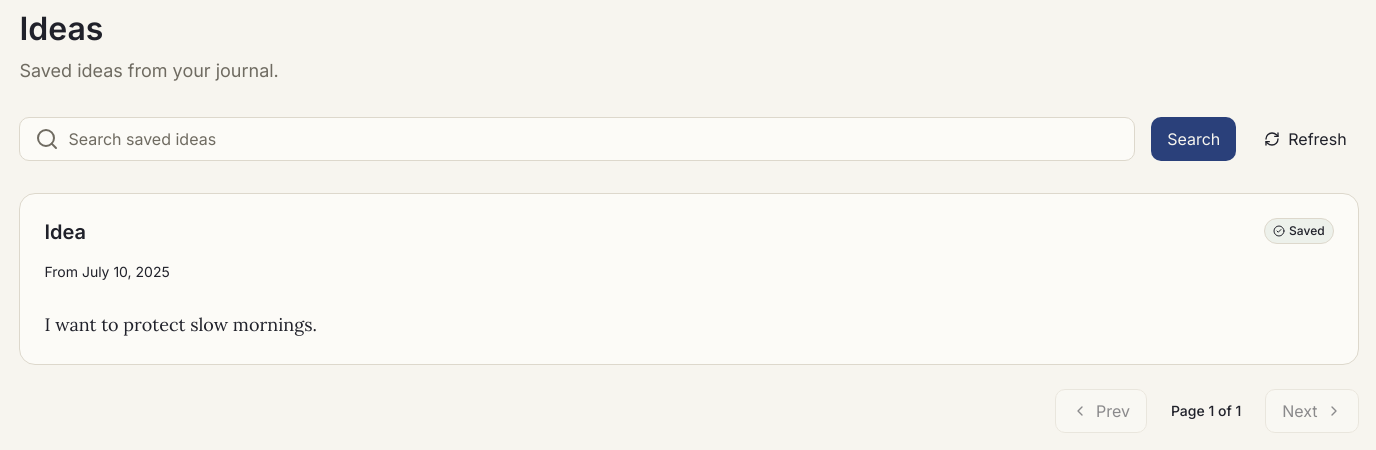
Scenario: SavedItemsScreen › renders saved items and distinguishes an empty search
Check: the text "I want to protect slow mornings." is shown, box x1=44 y1=313 x2=317 y2=336
Type "missing" into the search field named "Search ideas" at [577, 139], box x1=19 y1=117 x2=1135 y2=161
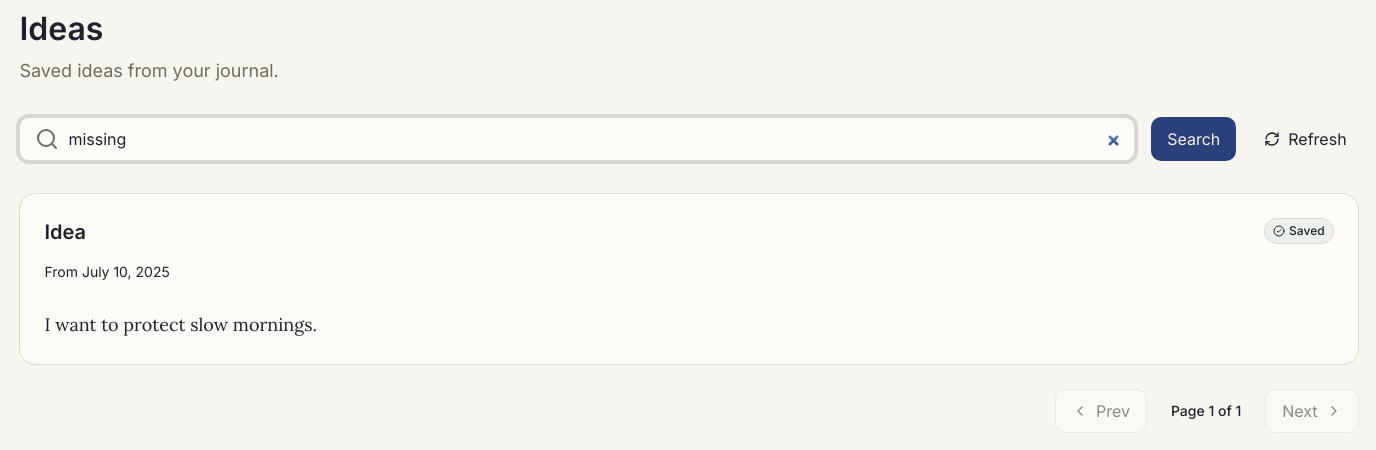
Check: the text "I want to protect slow mornings." is shown, box x1=44 y1=313 x2=317 y2=336
Click the button "Search" at [1194, 139], box x1=1151 y1=117 x2=1236 y2=161
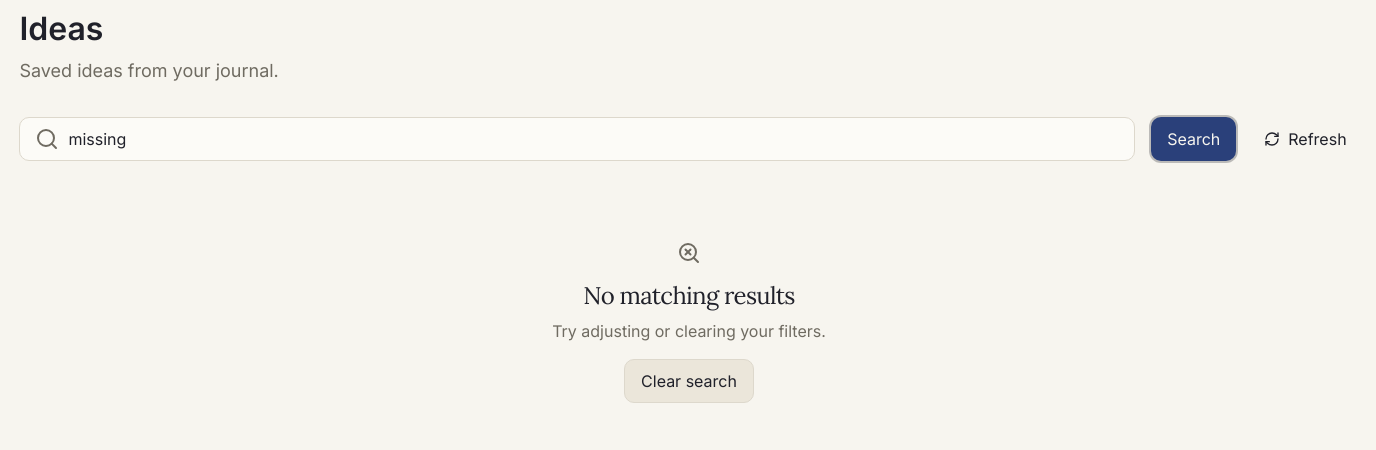
Check: the heading "No matching results" is shown, box x1=583 y1=280 x2=795 y2=311
